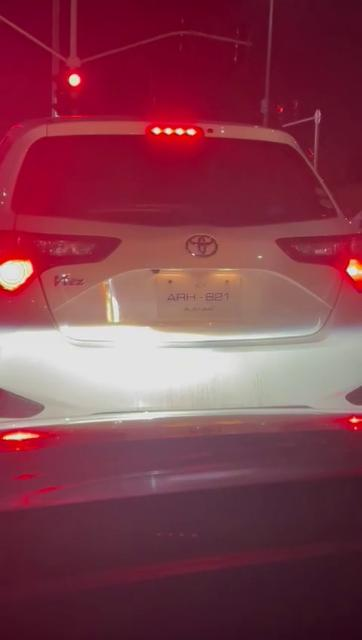plate: (158, 277, 250, 323)
